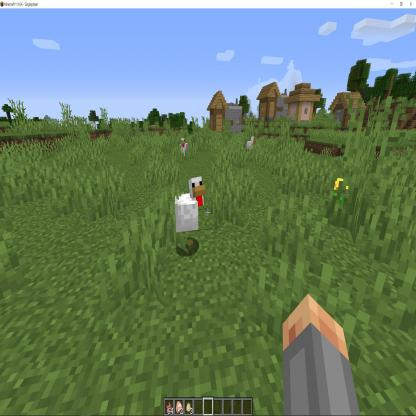minecraft-pigs: (174, 173, 206, 256), (178, 133, 191, 161), (244, 134, 256, 157)
